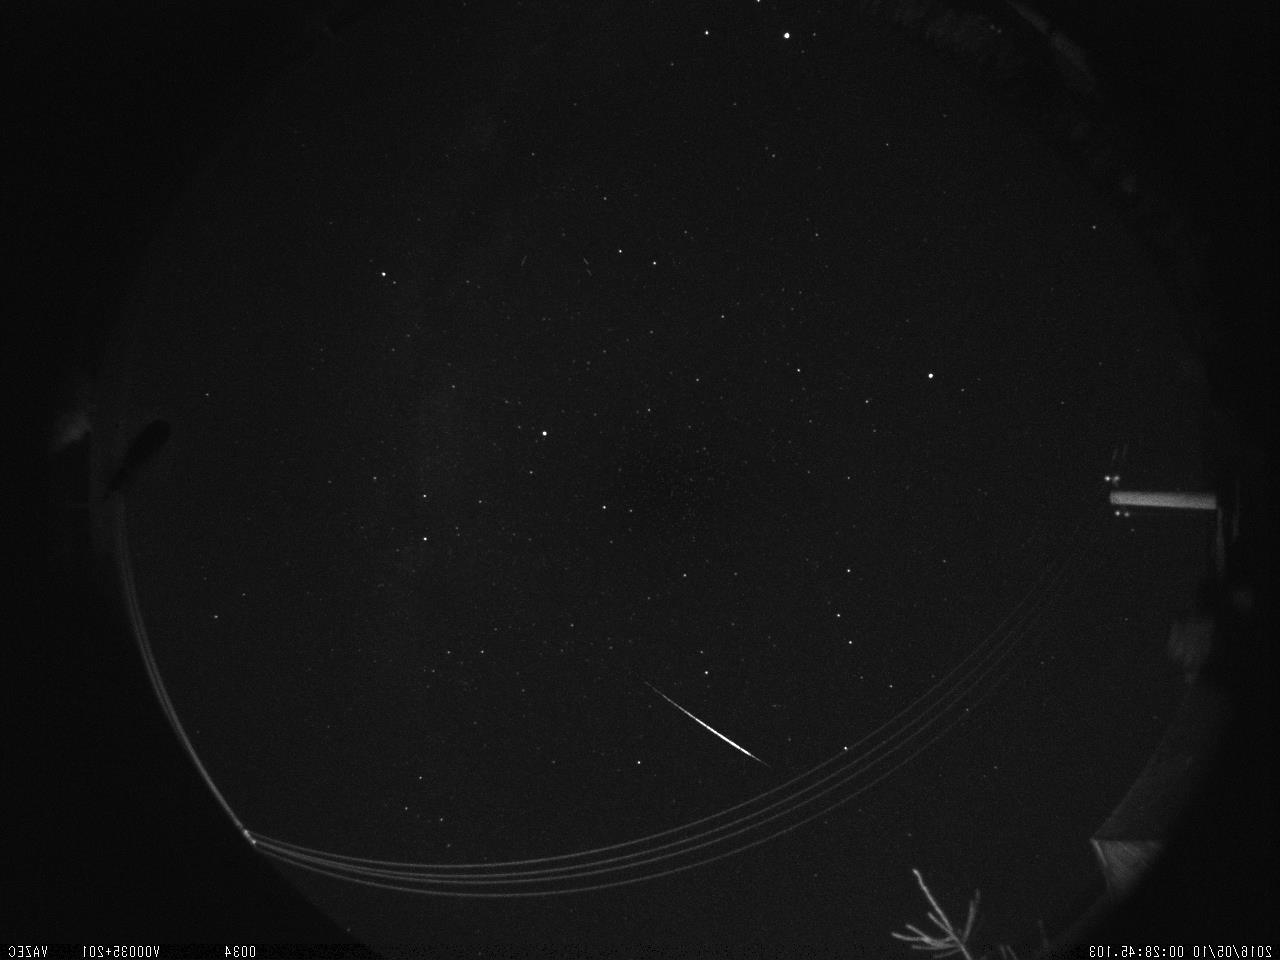meteor: (616, 671, 798, 783)
